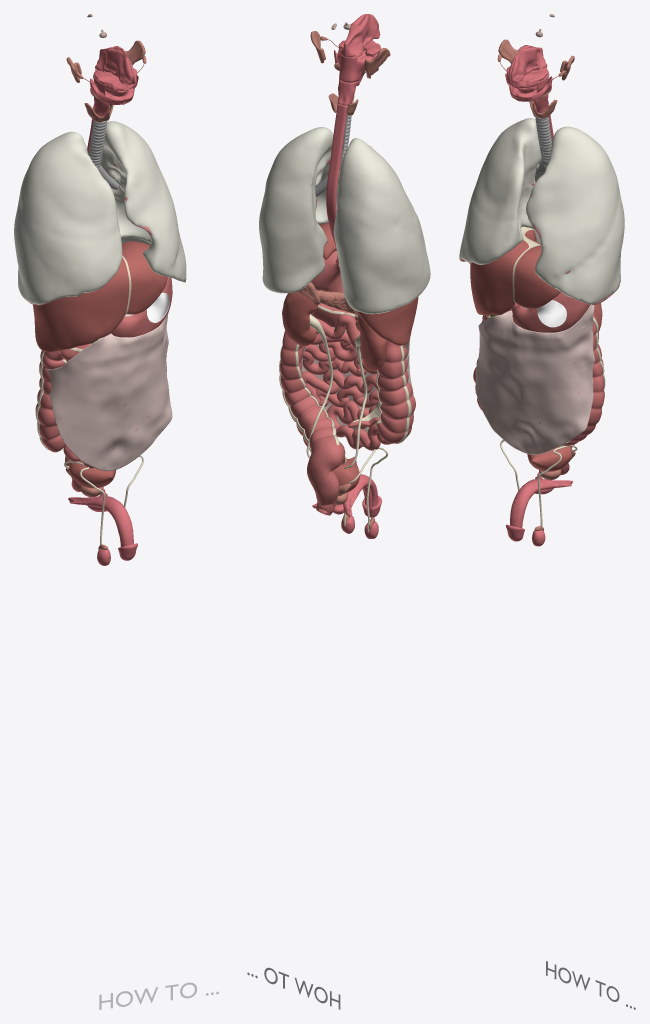
File: visceral.glb
3 renders of one model, left to right at view 1: azimuth 30°, elevation 25°; view 2: azimuth 150°, elevation 25°; view 3: azimuth 330°, elevation 25°, orthographic. The views are drawn at different scales.
Visible parts, largest first — view 1: Pleura, Greater omentum, Liver, Ascending colon, Corpus cavernosum of penis, Stomach, Gingiva, Mucosa of nasal cavity, Urinary bladder, HOW TO ..., Trachea; view 2: Pleura, Jejunum, Ascending colon, Descending colon, Sigmoid colon, Liver, Kidney.l, Oesophagus, Kidney.r, Stomach, Oropharynx, Mesocolic taenia (+10 smaller); view 3: Pleura, Greater omentum, Liver, Stomach, Descending colon, Corpus cavernosum of penis, Gingiva, Mucosa of nasal cavity, Urinary bladder, Mucosa of stomach, Trachea, HOW TO ....
Boxes of the visible parts, x1,y1,x2,y2 form: Pleura: [14, 121, 186, 304]; Greater omentum: [46, 313, 172, 471]; Liver: [33, 241, 167, 352]; Ascending colon: [35, 350, 65, 452]; Corpus cavernosum of penis: [68, 489, 133, 546]; Stomach: [111, 277, 172, 337]; Gingiva: [90, 68, 137, 104]; Mucosa of nasal cavity: [104, 46, 136, 84]; Urinary bladder: [69, 461, 116, 488]; HOW TO ...: [99, 982, 218, 1009]; Trachea: [88, 120, 106, 167]; Pleura: [259, 127, 430, 314]; Jejunum: [301, 318, 391, 450]; Ascending colon: [377, 340, 415, 443]; Descending colon: [280, 331, 345, 465]; Sigmoid colon: [307, 437, 345, 515]; Liver: [319, 222, 418, 345]; Kidney.l: [282, 291, 317, 346]; Oesophagus: [326, 104, 347, 264]; Kidney.r: [358, 315, 387, 370]; Stomach: [311, 250, 343, 292]; Oropharynx: [337, 48, 377, 82]; Mesocolic taenia: [279, 330, 411, 452]; Pleura: [459, 118, 624, 304]; Greater omentum: [475, 304, 594, 454]; Liver: [470, 226, 560, 315]; Stomach: [511, 292, 589, 332]; Descending colon: [564, 314, 604, 445]; Corpus cavernosum of penis: [510, 472, 572, 528]; Gingiva: [506, 66, 552, 101]; Mucosa of nasal cavity: [507, 45, 538, 82]; Urinary bladder: [527, 446, 572, 471]; Mucosa of stomach: [537, 299, 566, 327]; Trachea: [535, 116, 551, 167]; HOW TO ...: [546, 961, 635, 1009].
Bounding box in the file's own units: 0.3223 × 1.67 × 0.1926.
